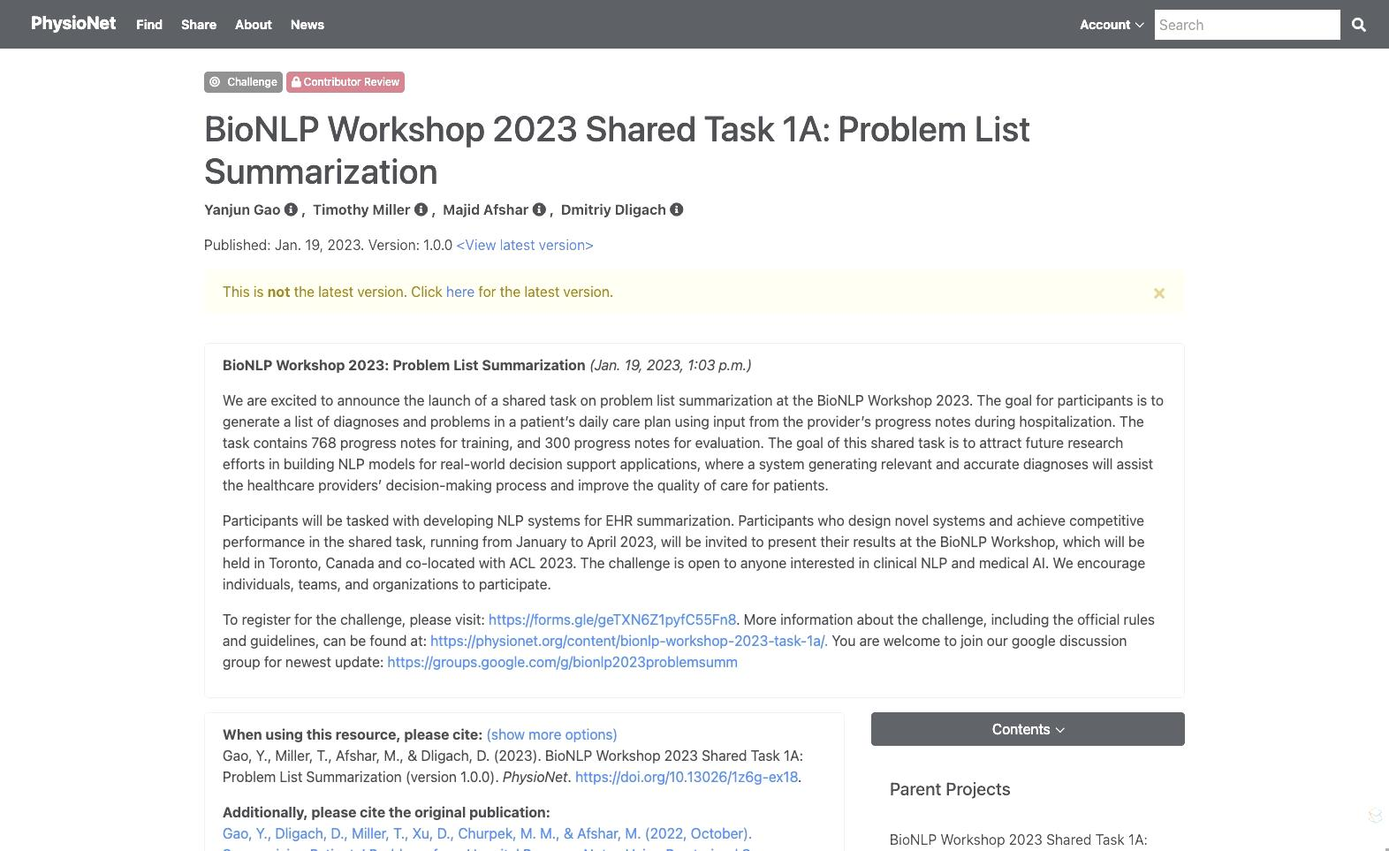webelement: (203, 342, 1184, 697), (222, 391, 1163, 492), (222, 512, 1144, 591), (222, 611, 1154, 669), (203, 269, 1184, 313), (203, 69, 1184, 92), (203, 233, 1184, 255), (222, 747, 802, 784), (222, 353, 1165, 375), (203, 198, 1184, 219), (222, 824, 811, 851), (870, 711, 1184, 745), (429, 632, 827, 648), (386, 653, 737, 669), (488, 611, 735, 627), (574, 768, 797, 784), (17, 9, 128, 40), (1072, 7, 1150, 41), (285, 71, 404, 92), (456, 236, 593, 252), (1134, 270, 1183, 312), (485, 726, 617, 741), (227, 7, 278, 41), (173, 7, 223, 41), (203, 71, 282, 92), (283, 7, 330, 41), (128, 7, 169, 41), (1340, 12, 1370, 35), (445, 283, 474, 299), (1351, 17, 1365, 31), (1365, 17, 1366, 18)
